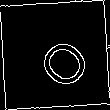O_NW: (21, 21, 89, 89)
